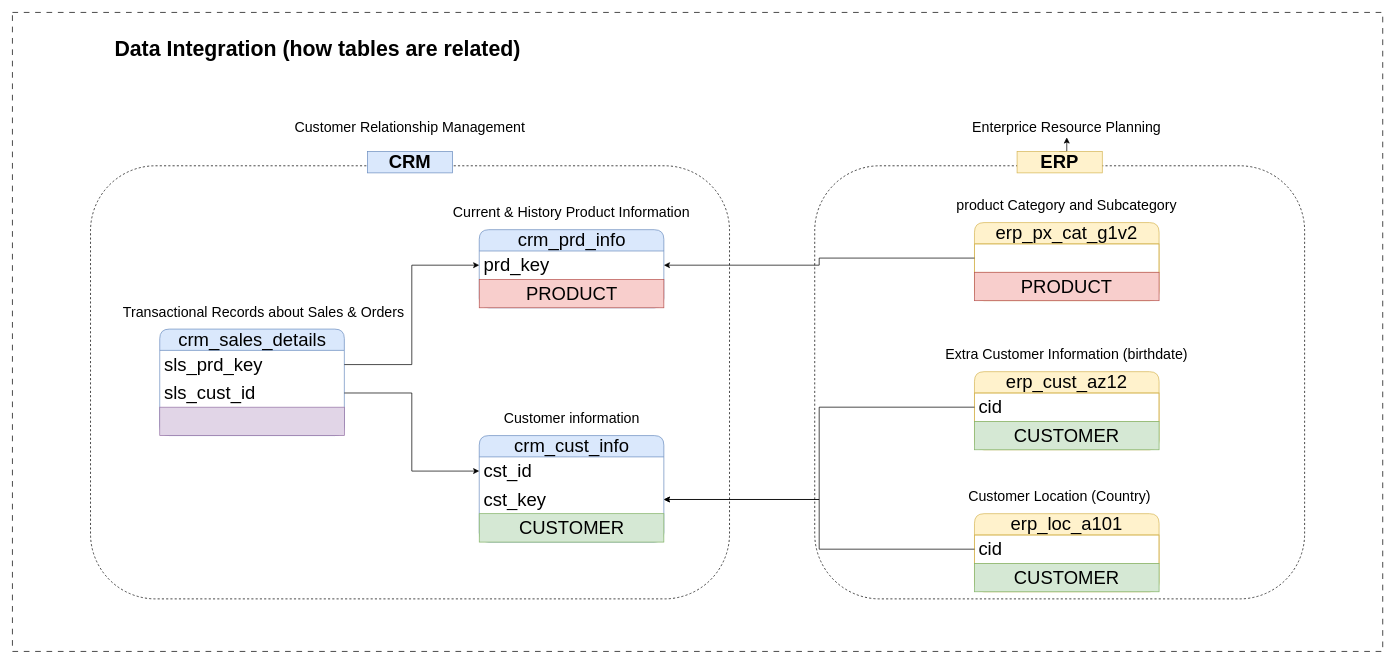
This 1395x664 diagram has some shape labels left out. The centre of each missing label's shape, as x and y in pixels:
"id" goes at pixel 1066 257.
"SALES" goes at pixel 251 421.
